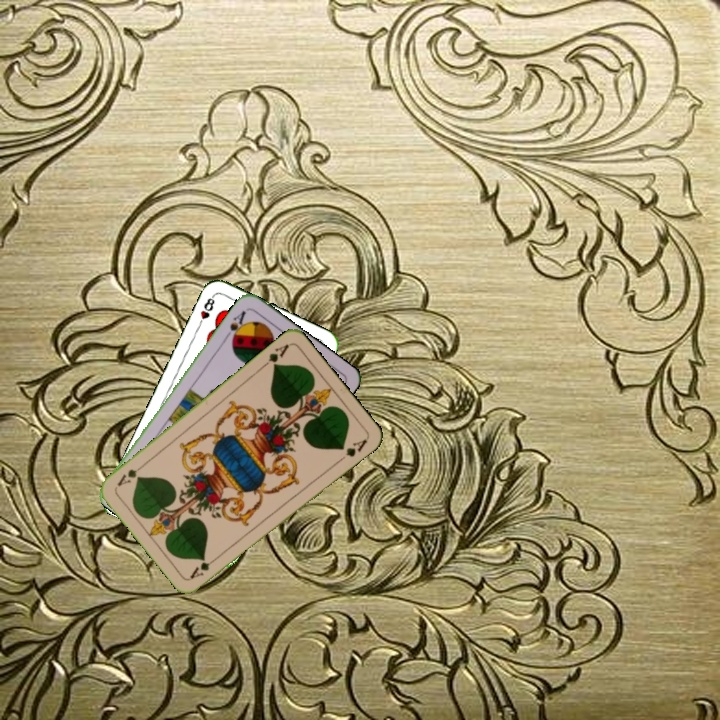GA: (258, 340, 292, 371), (186, 552, 221, 582)
H8: (194, 291, 217, 330)
SA: (221, 306, 248, 344)
